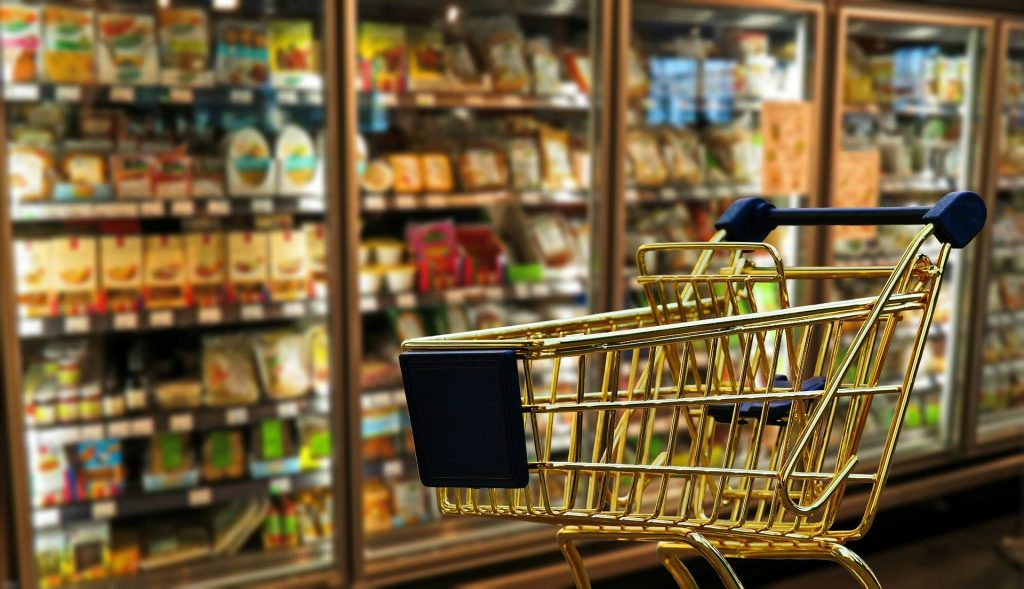with_basket: (371, 202, 985, 579)
